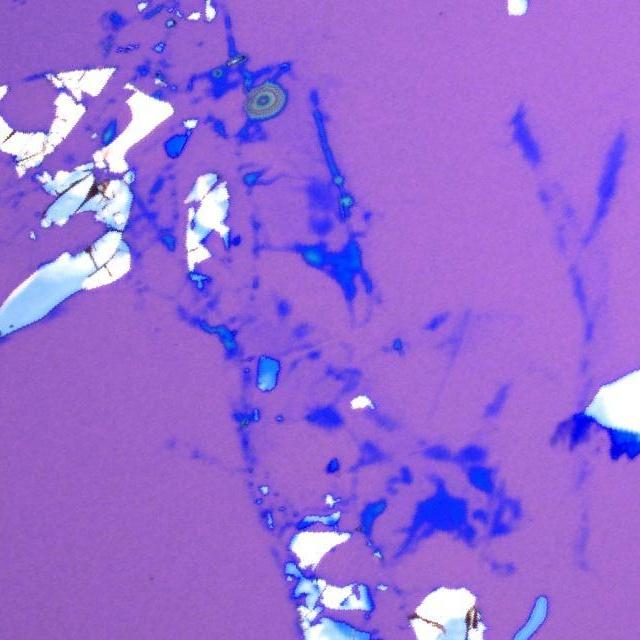monolayer-eWW4: (549, 432, 564, 447), (580, 430, 590, 444)
